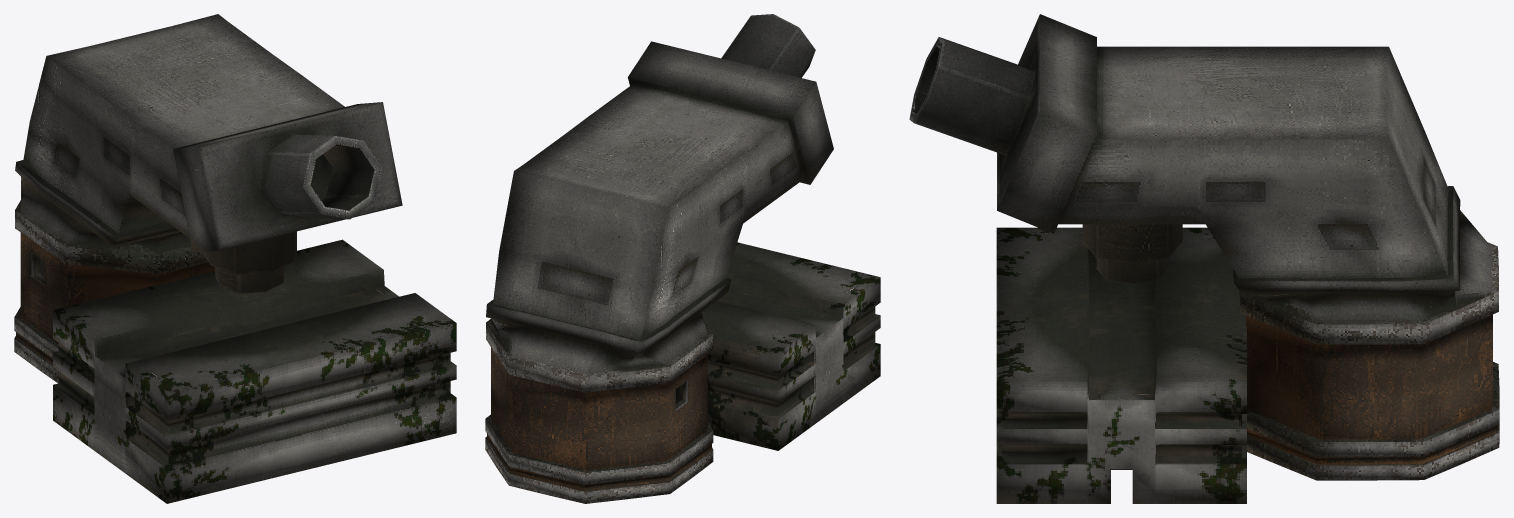
File: microscopebuilding_V3.glb
The picture shows the model from 3 angles, left to right: view 1: azimuth 30°, elevation 25°; view 2: azimuth 150°, elevation 25°; view 3: azimuth 270°, elevation 25°; orthographic projection. The views are drawn at different scales.
Parts seen in each view (by area): view 1: floor2; view 2: floor2; view 3: floor2.
Boxes of the visible parts, x1,y1,x2,y2 form: floor2: (14,14,456,503); floor2: (485,14,880,503); floor2: (909,14,1499,503).
Size of the model in its own units: 46.72 by 54.07 by 75.03.
2 materials, 2 textured.
